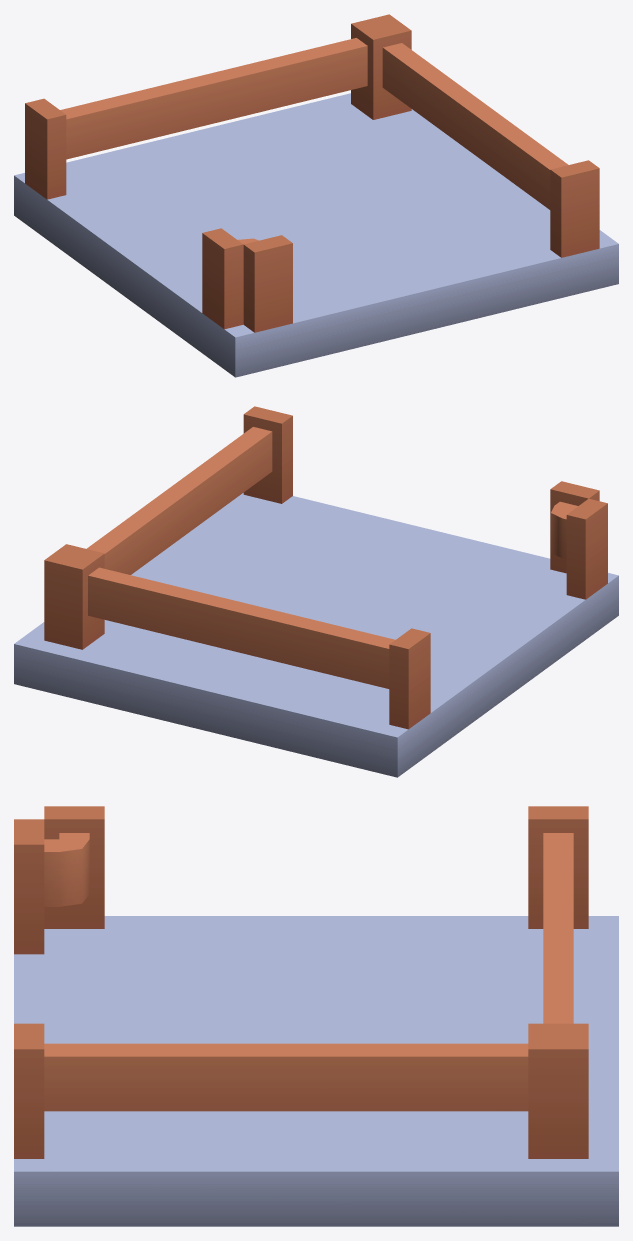
File: path-corner.glb
3 views of the same model, one above another, from view 1: azimuth 30°, elevation 25°; view 2: azimuth 150°, elevation 25°; view 3: azimuth 270°, elevation 25° (orthographic). The views are drawn at different scales.
Visible parts, largest first — view 1: path-corner; view 2: path-corner; view 3: path-corner.
Boxes of the visible parts, x1,y1,x2,y2 form: path-corner: [14, 14, 618, 377]; path-corner: [14, 406, 618, 777]; path-corner: [14, 806, 618, 1226].
Size of the model in its own units: 1 by 0.3 by 1.
Materials: 1 (1 with a texture image).
